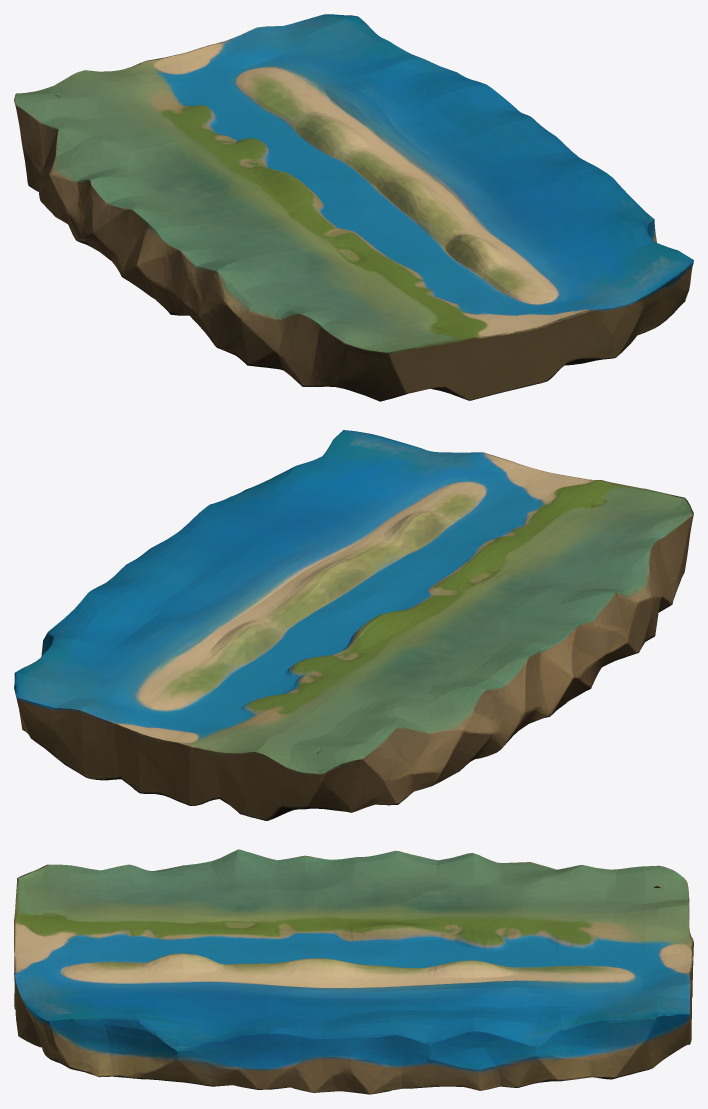
3 renders of one model, top to bottom at view 1: azimuth 30°, elevation 25°; view 2: azimuth 150°, elevation 25°; view 3: azimuth 270°, elevation 25°, orthographic. The views are drawn at different scales.
Visible parts, largest first — view 1: world; view 2: world; view 3: world.
Part boxes in pixels (bbox=[...]): world: bbox=[14, 14, 693, 401]; world: bbox=[14, 430, 693, 820]; world: bbox=[14, 849, 693, 1094].
Bounding box in the file's own units: 0.6741 × 0.1151 × 1.
Materials: 1 (1 with a texture image).
